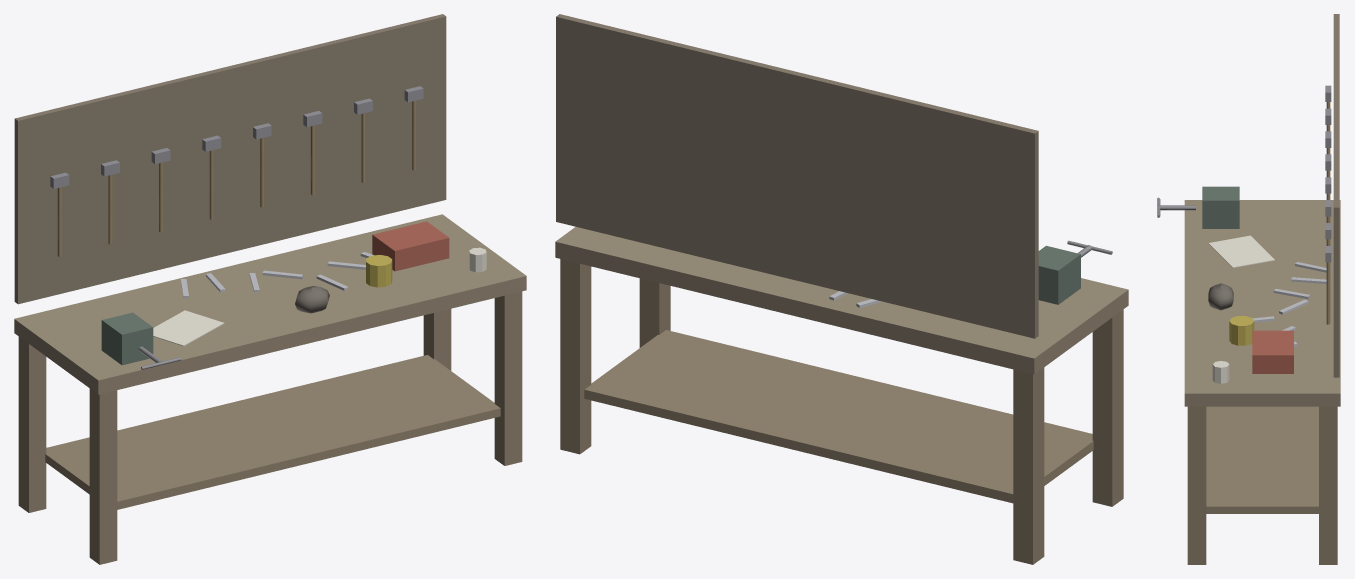
File: garage_workbench_a_cluttered.glb
The picture shows the model from 3 angles, left to right: view 1: azimuth 30°, elevation 25°; view 2: azimuth 150°, elevation 25°; view 3: azimuth 270°, elevation 25°; orthographic projection. The views are drawn at different scales.
Visible parts, largest first — view 1: body; view 2: body; view 3: body.
Boxes of the visible parts, x1=… form: body: x1=14, y1=14, x2=526, y2=564; body: x1=555, y1=14, x2=1128, y2=564; body: x1=1157, y1=14, x2=1340, y2=564.
Size of what is drawn, in the model's own units: 2.2 by 1.9 by 0.8815.
